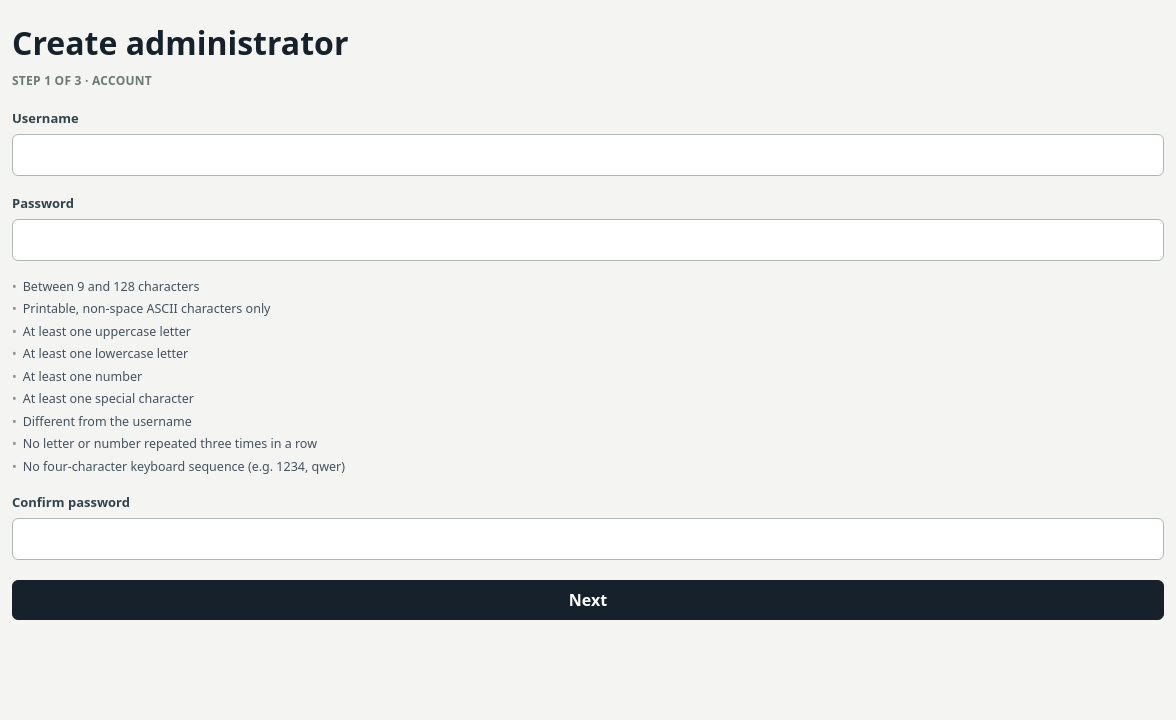
SetupCredentialsStep › marks the charset requirement unmet, with aria-invalid and a textual marker, for its rejecting vector
Type "operator.one" into the field labelled "Username" at (588, 155), box x1=12 y1=134 x2=1164 y2=176
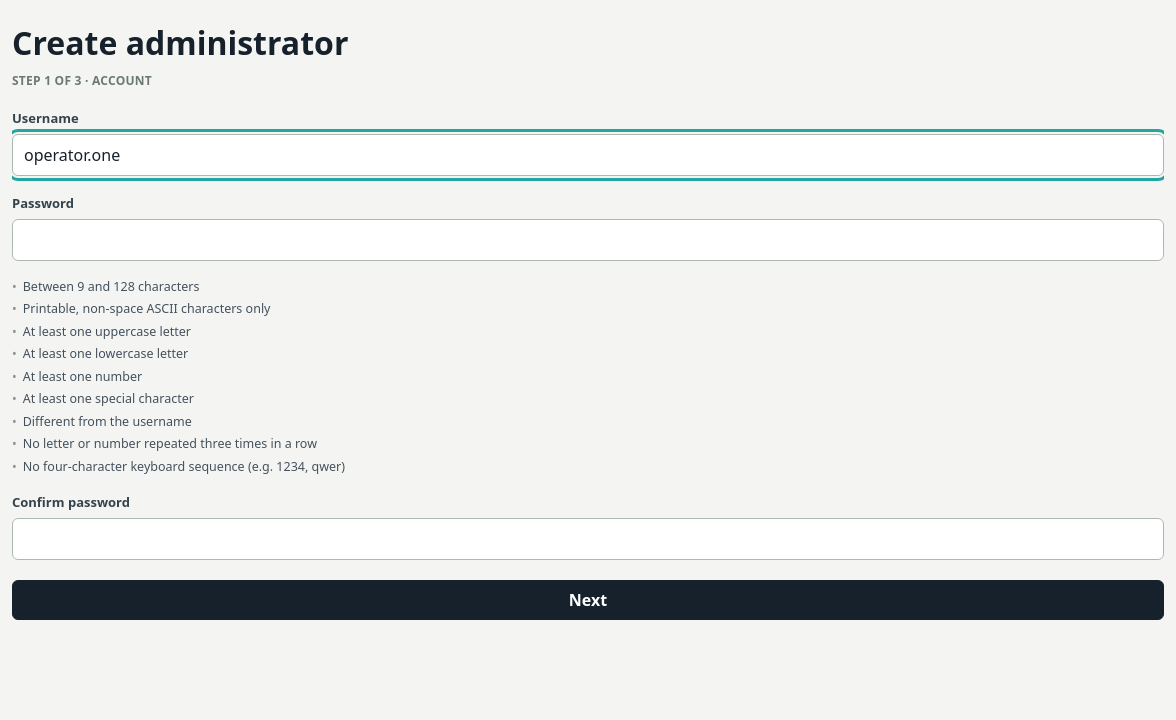
Type "NorthStar!9é" into the password field labelled "Password" at (588, 240), box x1=12 y1=219 x2=1164 y2=261
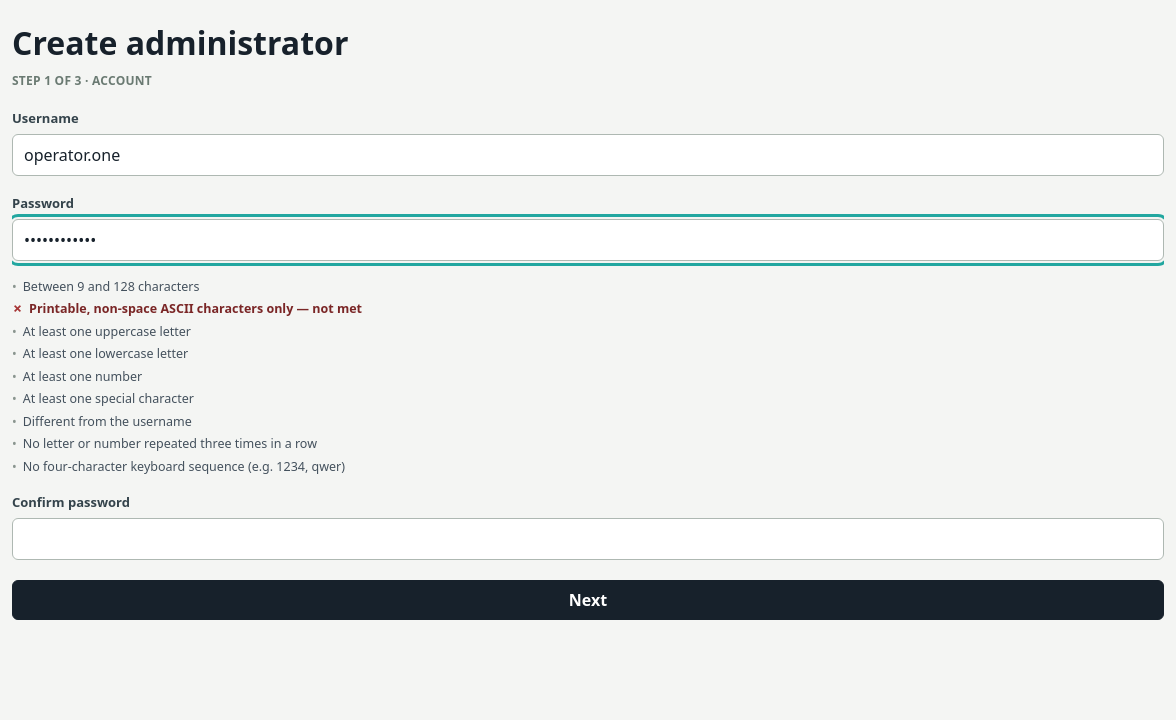
Expected: the list item "Printable, non-space ASCII characters only" shows "not met", x1=293 y1=300 x2=362 y2=317
